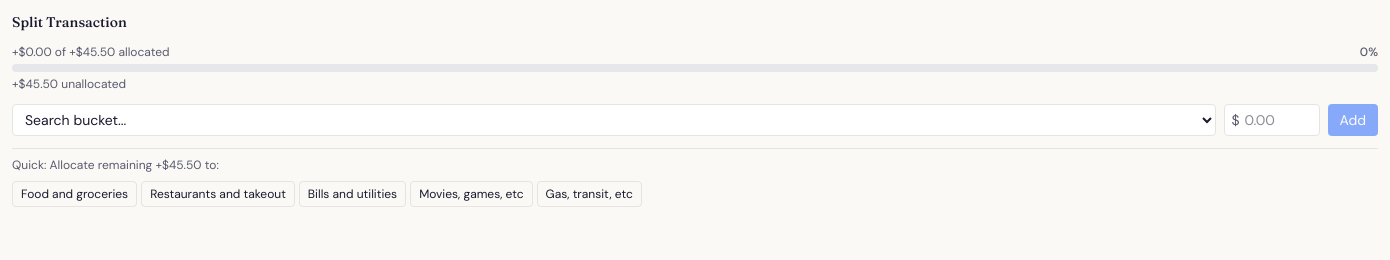
SplitTransaction › validation › shows error for invalid amount
The width and height of the screenshot is (1390, 260).
Select "Food and groceries" in the dropdown. click: (614, 120)
box: [12, 104, 1216, 136]
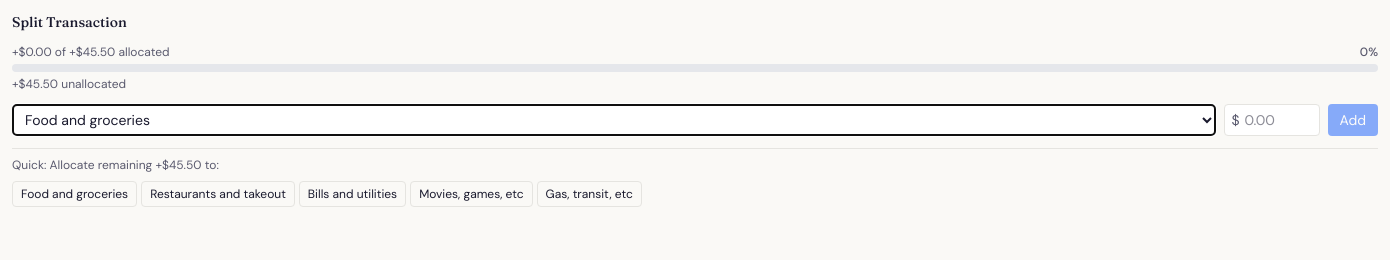
Type "-5" into the number field with placeholder "0.00". click: (1272, 120)
box: [1224, 104, 1320, 136]
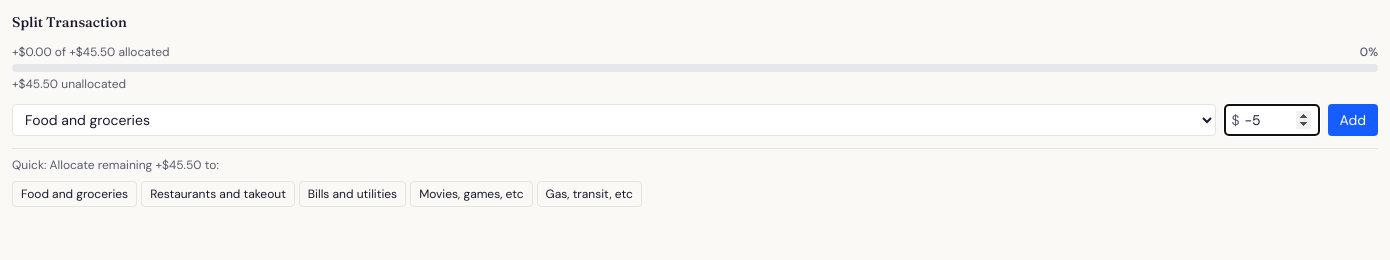
Click the button "Add". click: (1353, 120)
box: [1328, 104, 1378, 136]
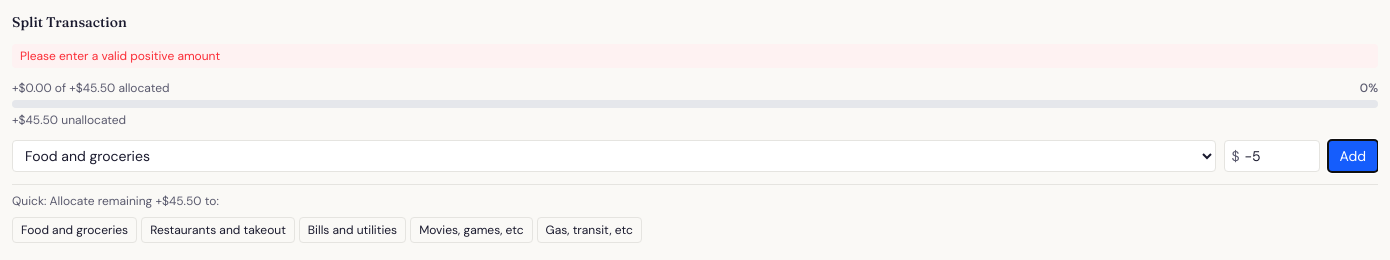
expect the text "Please enter a valid positive amount" is shown: met, box [12, 44, 1378, 68]
